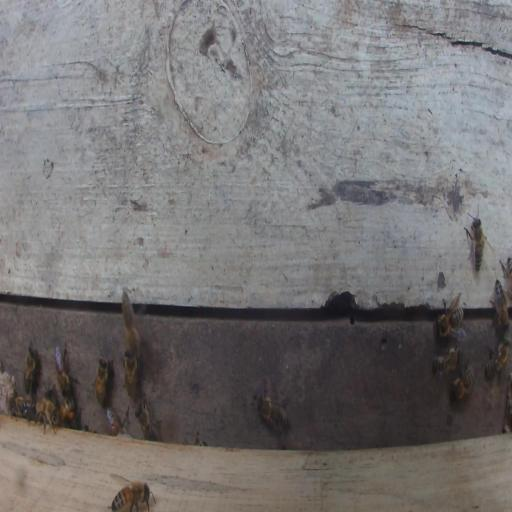bee: (111, 479, 150, 512), (122, 290, 141, 354), (257, 397, 289, 434), (464, 217, 485, 273), (431, 348, 460, 387), (436, 305, 464, 341), (135, 401, 159, 442), (55, 346, 73, 399), (486, 339, 510, 376), (450, 365, 474, 402), (494, 279, 509, 334), (23, 348, 38, 397), (95, 359, 110, 406), (123, 350, 137, 399), (106, 404, 126, 436), (9, 396, 35, 419), (55, 396, 75, 423), (35, 396, 54, 423), (507, 257, 512, 295)
